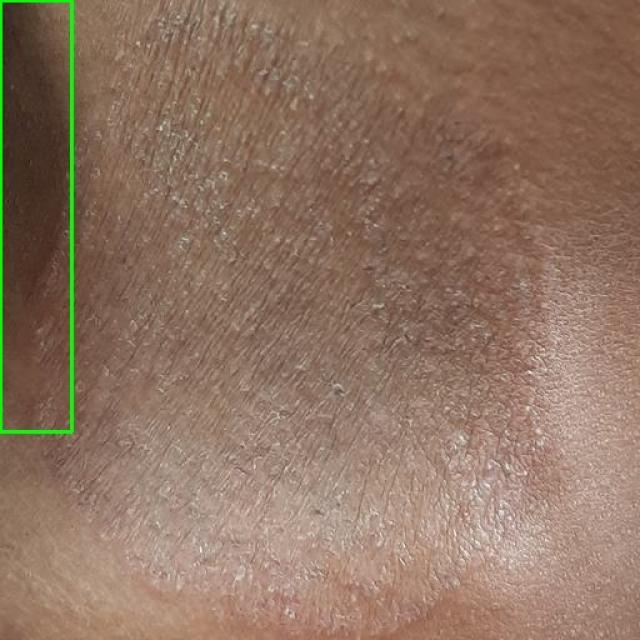Tinea Corporis: (0, 0, 71, 431)
